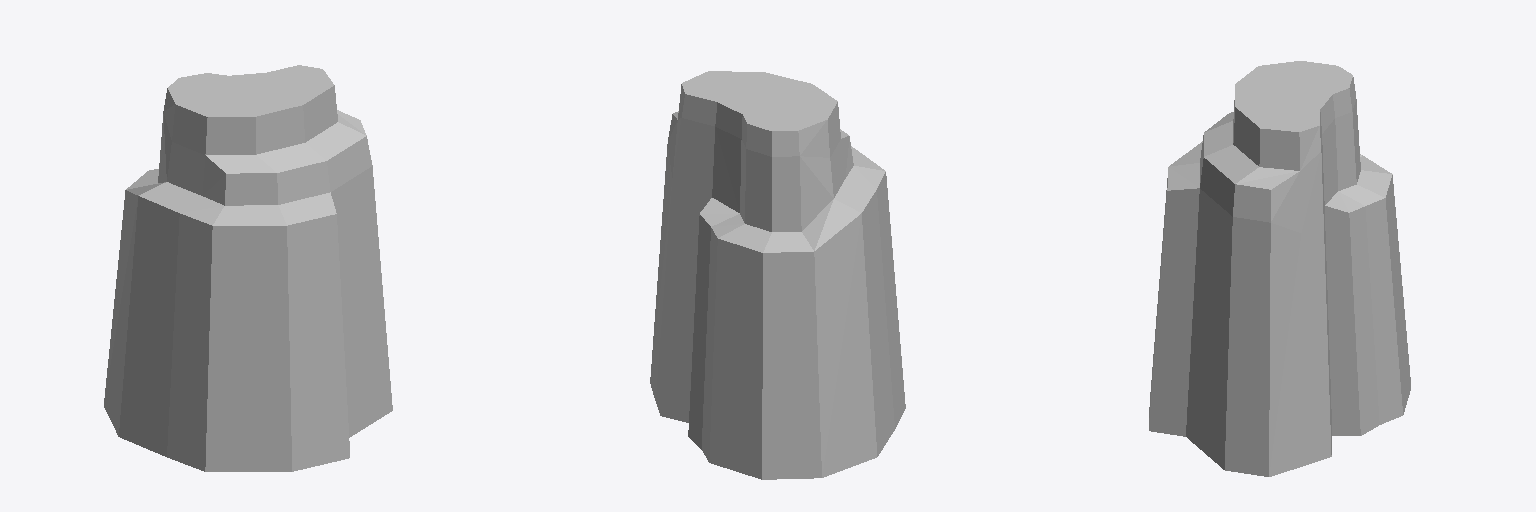
The model's file is rock_cliff_02_lava.obj.
3 renders of one model, left to right at view 1: azimuth 30°, elevation 25°; view 2: azimuth 150°, elevation 25°; view 3: azimuth 270°, elevation 25°, orthographic.
Visible parts, largest first — view 1: rock_cliff_02_lava; view 2: rock_cliff_02_lava; view 3: rock_cliff_02_lava.
Boxes of the visible parts, x1,y1,x2,y2 form: rock_cliff_02_lava: [104, 65, 392, 471]; rock_cliff_02_lava: [650, 71, 905, 479]; rock_cliff_02_lava: [1149, 61, 1410, 476].
Size of the model in its own units: 822 by 1026 by 759.